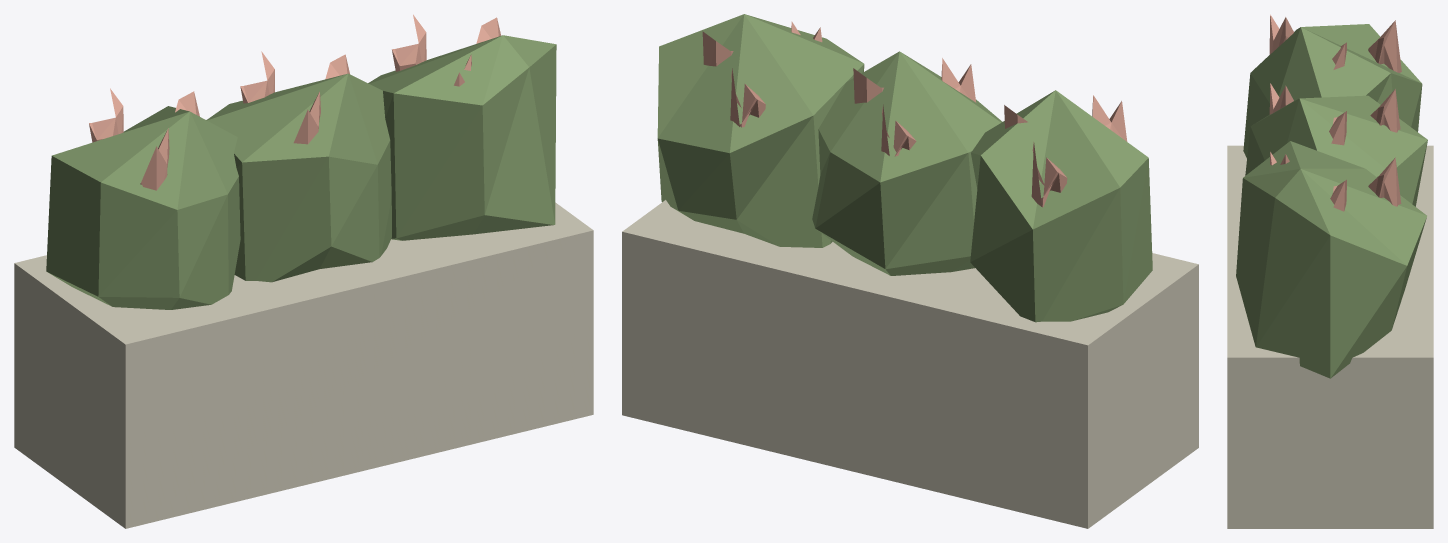
The picture shows the model from 3 angles, left to right: view 1: azimuth 30°, elevation 25°; view 2: azimuth 150°, elevation 25°; view 3: azimuth 270°, elevation 25°; orthographic projection. The views are drawn at different scales.
Bounding box in the file's own units: 1.77 × 1.26 × 0.7.
